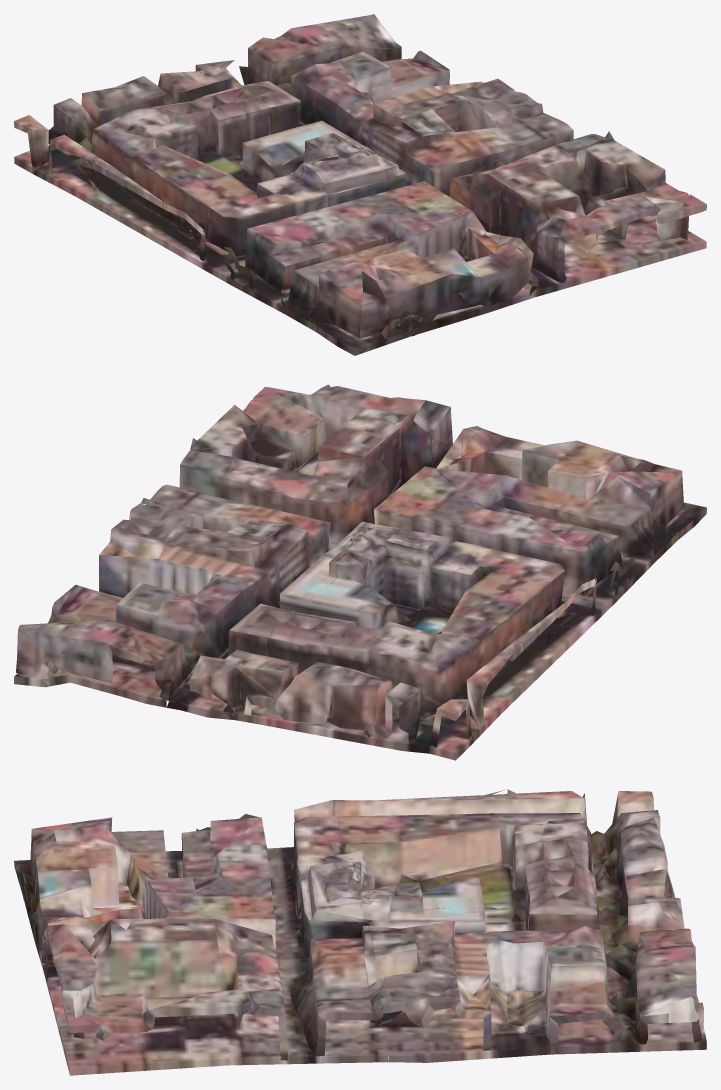
3 views of the same model, one above another, from view 1: azimuth 30°, elevation 25°; view 2: azimuth 150°, elevation 25°; view 3: azimuth 270°, elevation 25° (orthographic). The views are drawn at different scales.
Parts seen in each view (by area): view 1: Mesh_0; view 2: Mesh_0; view 3: Mesh_0.
Boxes of the visible parts, x1,y1,x2,y2 form: Mesh_0: [14, 14, 706, 355]; Mesh_0: [14, 384, 706, 760]; Mesh_0: [14, 789, 706, 1075].
Bounding box in the file's own units: 266 × 57.17 × 330.
Materials: 1 (1 with a texture image).
